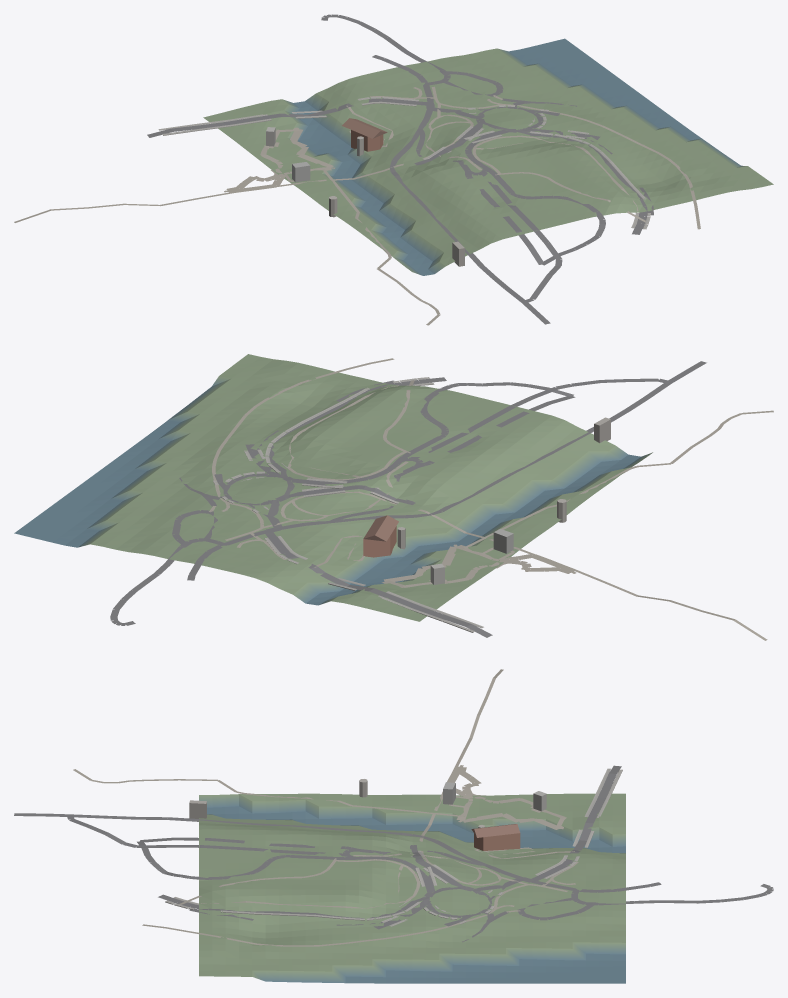
Rendered from tile_8_-2.glb.
3 renders of one model, top to bottom at view 1: azimuth 30°, elevation 25°; view 2: azimuth 150°, elevation 25°; view 3: azimuth 270°, elevation 25°, orthographic. The views are drawn at different scales.
Visible parts, largest first — view 1: terrain, roads, paths, sidewalks, buildings; view 2: terrain, roads, paths, buildings, sidewalks; view 3: terrain, roads, paths, buildings, sidewalks.
Boxes of the visible parts, x1,y1,x2,y2 form: terrain: [203, 38, 773, 275]; roads: [147, 14, 653, 324]; paths: [14, 86, 700, 325]; sidewalks: [158, 96, 650, 229]; buildings: [266, 118, 464, 266]; terrain: [14, 354, 652, 621]; roads: [110, 361, 706, 637]; paths: [209, 358, 773, 640]; buildings: [363, 417, 610, 584]; sidewalks: [213, 377, 483, 632]; terrain: [199, 793, 625, 983]; roads: [14, 765, 773, 942]; paths: [73, 669, 578, 946]; buildings: [189, 779, 546, 850]; sidewalks: [165, 768, 622, 926].
Size of the model in its own units: 432 by 16.92 by 456.
